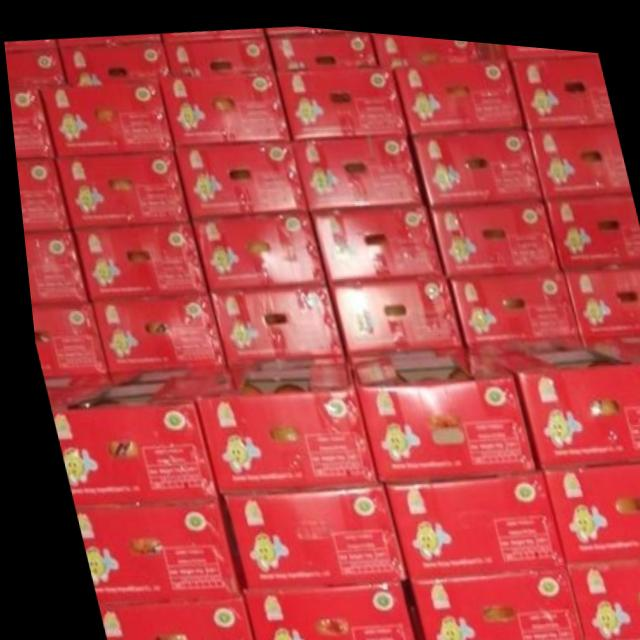box: (340, 335, 529, 476), (186, 350, 371, 494), (43, 364, 217, 510), (468, 329, 640, 462), (376, 458, 552, 572), (214, 481, 396, 585), (65, 496, 234, 605), (398, 557, 573, 640), (533, 449, 640, 557), (307, 198, 440, 281), (231, 577, 406, 640), (69, 221, 206, 301), (173, 133, 305, 216), (83, 289, 219, 369), (392, 48, 523, 130), (324, 266, 459, 345), (188, 206, 321, 286), (51, 150, 186, 228), (411, 117, 539, 199), (206, 281, 337, 361), (290, 125, 421, 205), (427, 191, 558, 269), (39, 74, 173, 150), (157, 68, 289, 145), (445, 262, 577, 337), (277, 60, 408, 135), (555, 547, 640, 640), (527, 112, 629, 189), (512, 45, 613, 121), (542, 183, 640, 259), (87, 595, 242, 640), (55, 31, 172, 87), (558, 253, 640, 330), (161, 23, 274, 73), (266, 21, 379, 67), (25, 304, 99, 372), (19, 231, 84, 304), (371, 26, 508, 59), (13, 155, 66, 232), (7, 89, 52, 159), (4, 41, 64, 88), (34, 371, 99, 409), (506, 35, 599, 52)
